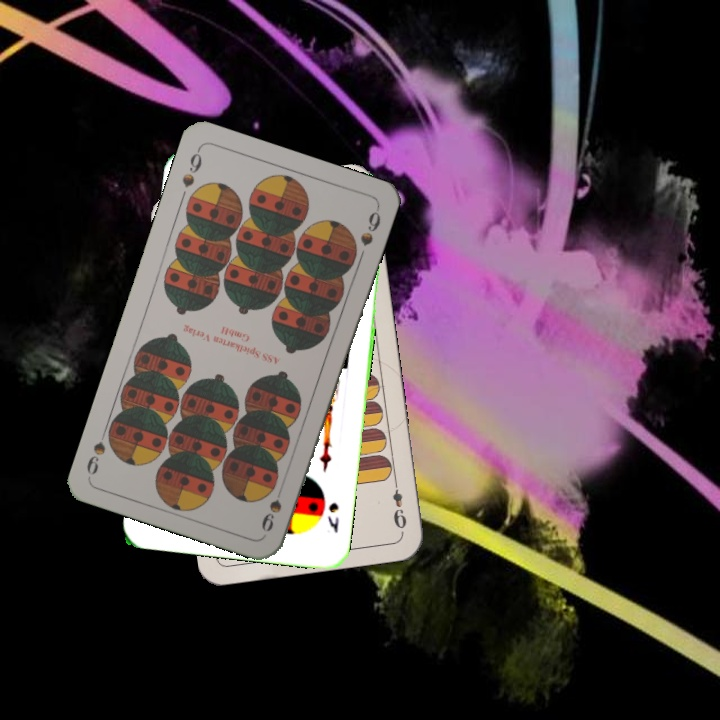E9: (388, 475, 410, 532)
S9: (257, 479, 287, 534), (178, 145, 205, 190)
SK: (323, 498, 342, 535)
